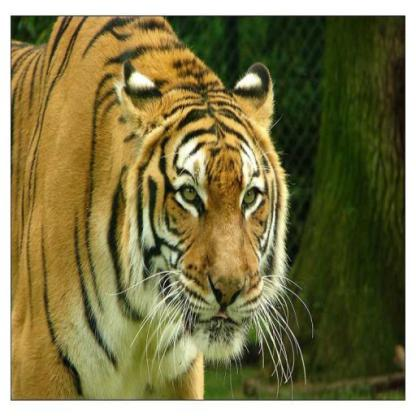Tiger: (13, 19, 317, 398)
